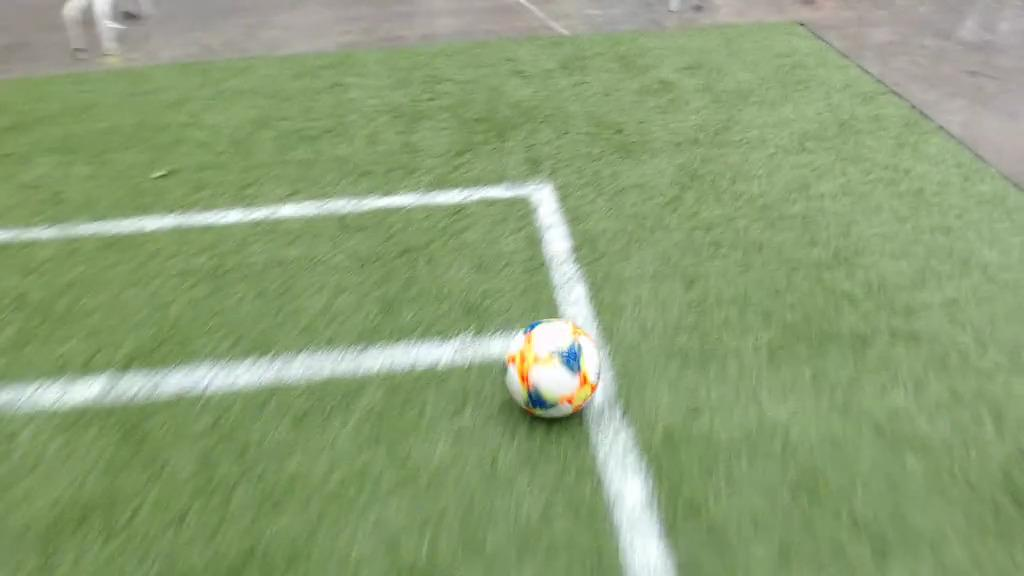ball: (506, 319, 599, 417)
